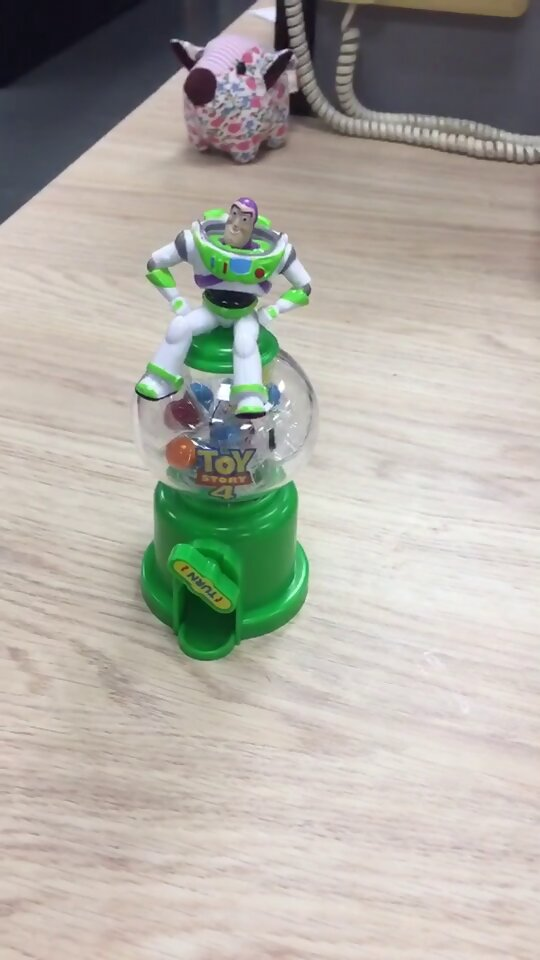buzz: (129, 189, 321, 666)
